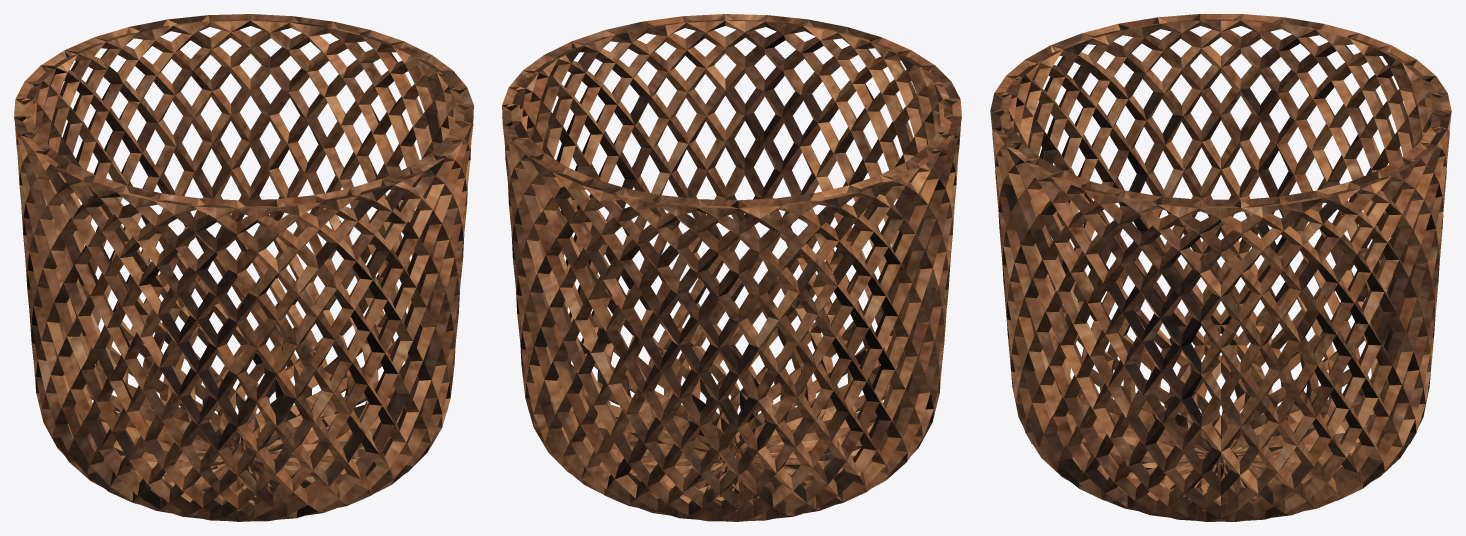
Rendered from chankin.glb.
The picture shows the model from 3 angles, left to right: view 1: azimuth 30°, elevation 25°; view 2: azimuth 150°, elevation 25°; view 3: azimuth 270°, elevation 25°; orthographic projection.
Visible parts, largest first — view 1: BezierCurve; view 2: BezierCurve; view 3: BezierCurve.
Part boxes in pixels (box(x1,y1,x2,y2)): BezierCurve: box(14, 14, 473, 521); BezierCurve: box(502, 14, 961, 521); BezierCurve: box(990, 14, 1451, 521).
Size of the model in its own units: 0.719 by 0.628 by 0.722.
Materials: 1 (1 with a texture image).
